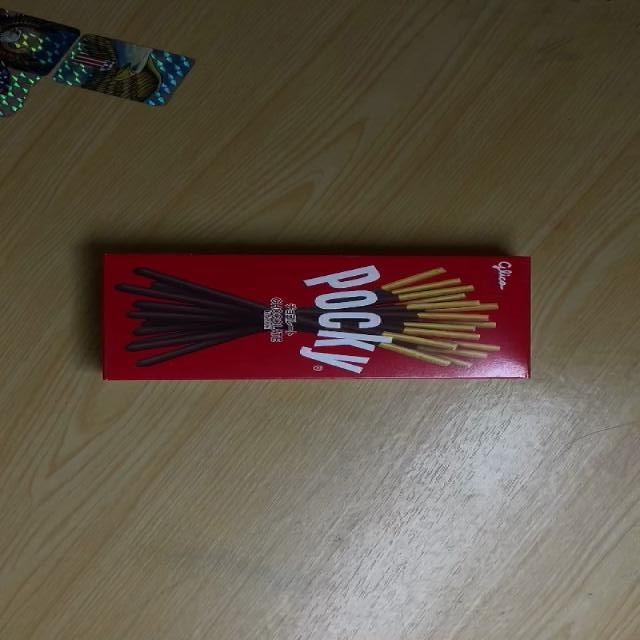Pocky: (99, 251, 531, 383)
